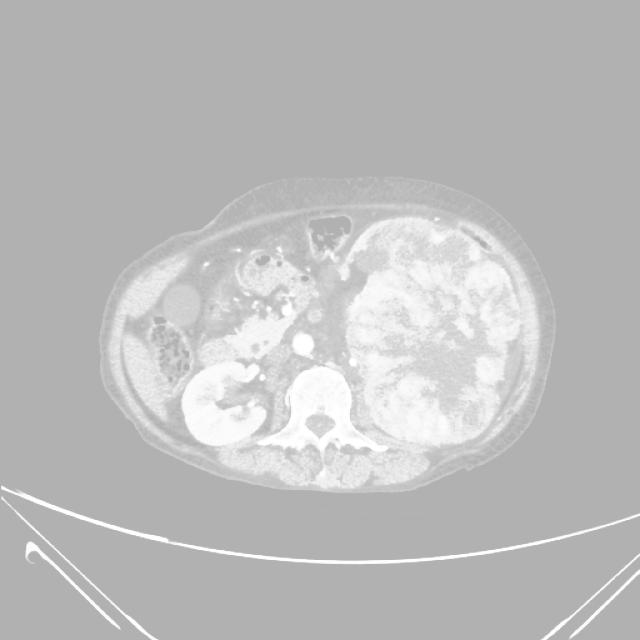TUMOR: (107, 245, 375, 439)
